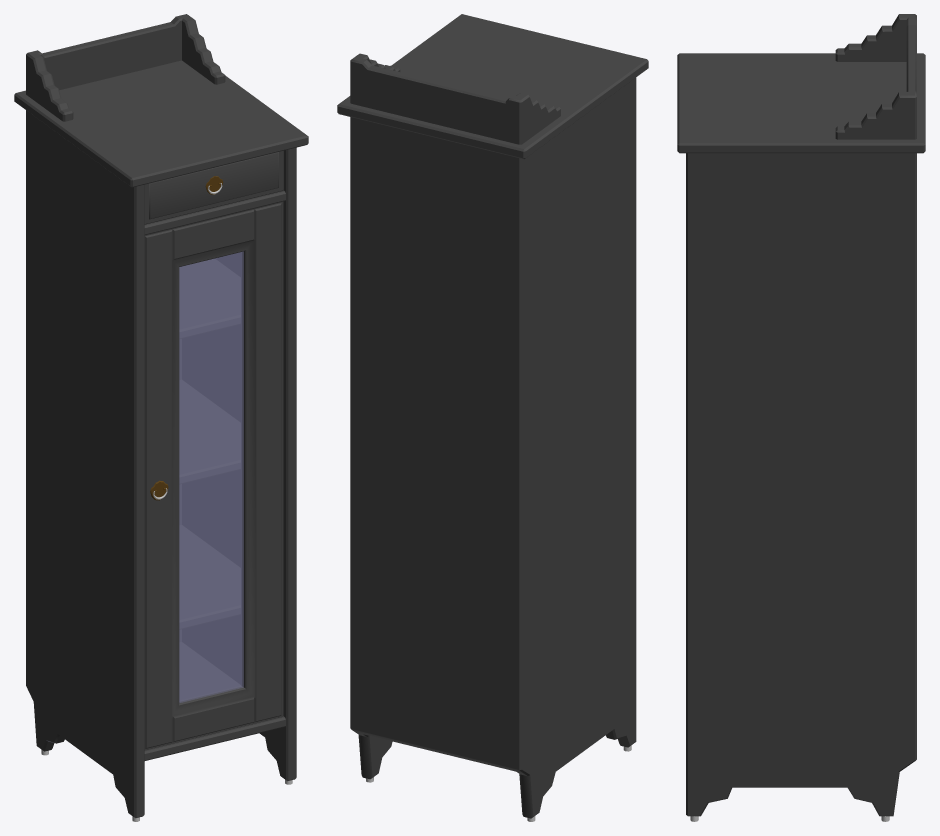
The model's file is FlarenCabinetWithDoorAndDrawer.FBX.
3 renders of one model, left to right at view 1: azimuth 30°, elevation 25°; view 2: azimuth 150°, elevation 25°; view 3: azimuth 270°, elevation 25°, orthographic. The views are drawn at different scales.
Visible parts, largest first — view 1: FlarenCabinetWithDoorAndDrawer; view 2: FlarenCabinetWithDoorAndDrawer; view 3: FlarenCabinetWithDoorAndDrawer.
Part boxes in pixels (x1,y1,x2,y2): FlarenCabinetWithDoorAndDrawer: (14, 14, 308, 821); FlarenCabinetWithDoorAndDrawer: (337, 14, 648, 821); FlarenCabinetWithDoorAndDrawer: (677, 14, 925, 821).
Bounding box in the file's own units: 34 × 39 × 126.
